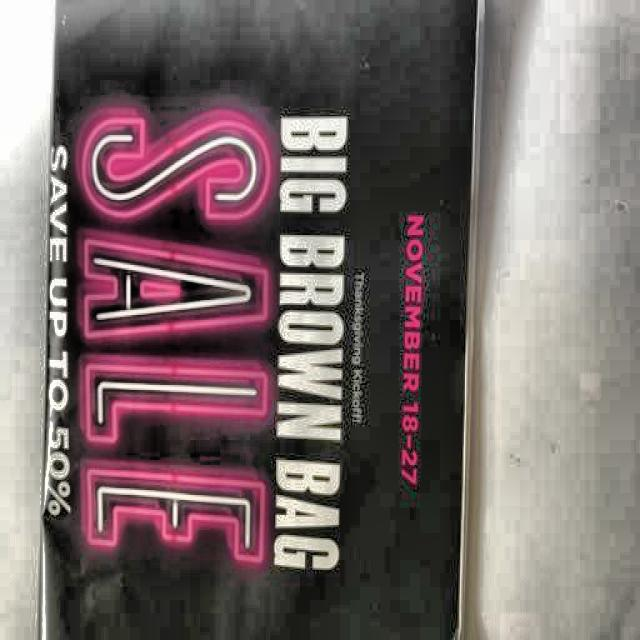paper: (35, 0, 485, 640)
